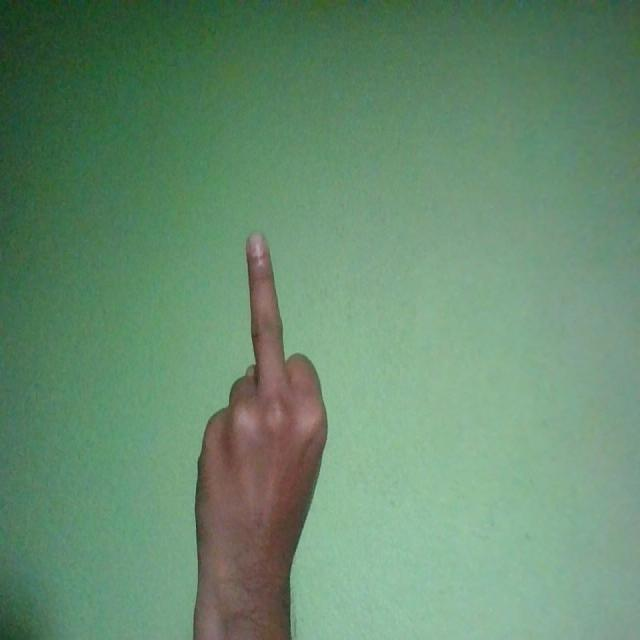Middle Finger: (195, 225, 328, 626)
